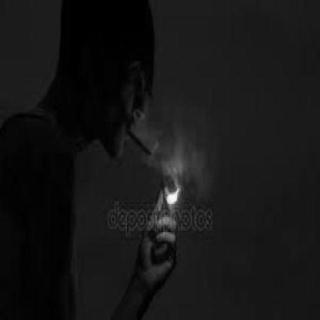Fire: (163, 182, 186, 210)
